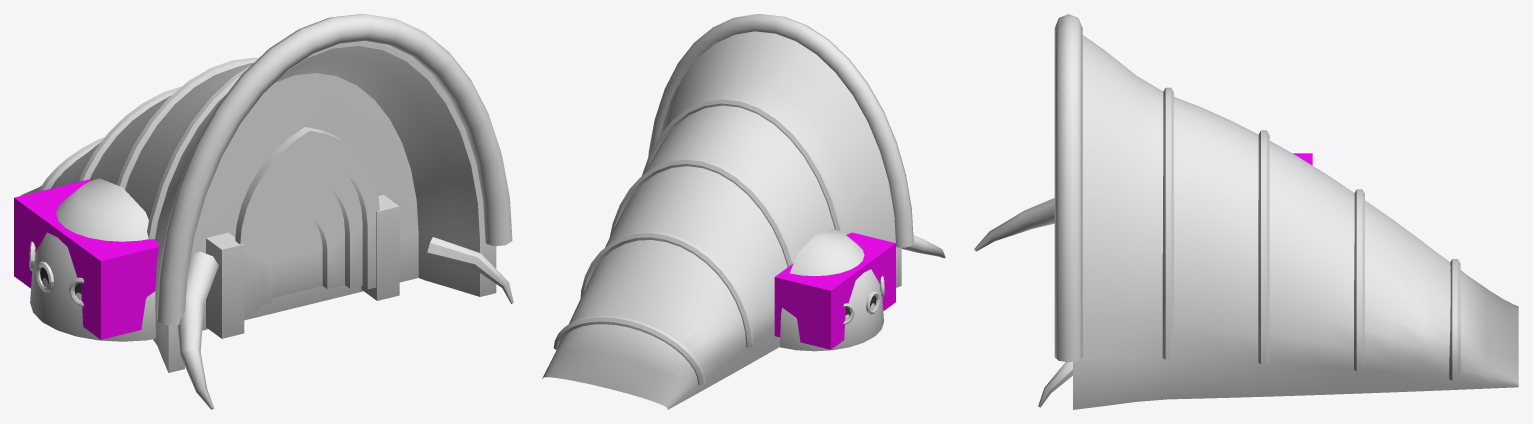
File: redoran_hall.glb
3 renders of one model, left to right at view 1: azimuth 30°, elevation 25°; view 2: azimuth 150°, elevation 25°; view 3: azimuth 270°, elevation 25°, orthographic. The views are drawn at different scales.
Parts seen in each view (by area): view 1: redoran_hall, redoran_hall_hull; view 2: redoran_hall, redoran_hall_hull; view 3: redoran_hall.
Boxes of the visible parts, left/top/right/bottom form: redoran_hall: left=20, top=14, right=513, bottom=409; redoran_hall_hull: left=14, top=179, right=159, bottom=339; redoran_hall: left=542, top=14, right=945, bottom=409; redoran_hall_hull: left=774, top=232, right=895, bottom=349; redoran_hall: left=974, top=14, right=1518, bottom=409.
Size of the model in its own units: 15.4 by 12.71 by 19.54.
